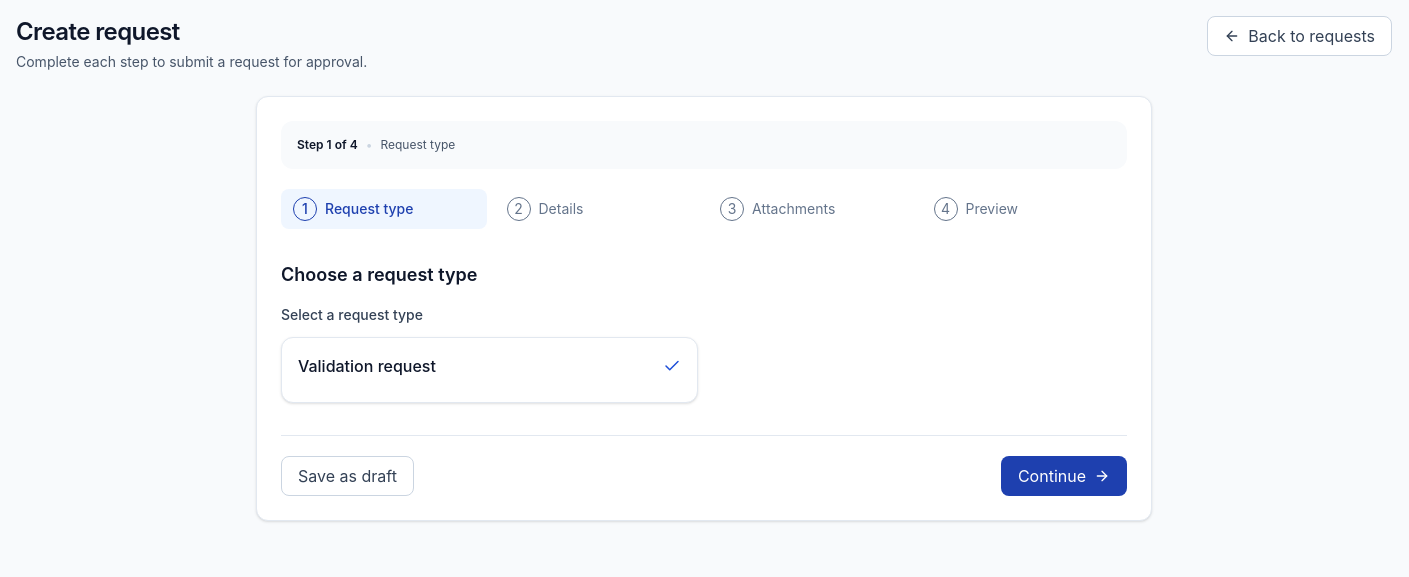
Test case: NewRequestPage validation › allows continuing when a required checkbox is checked
Click the button "Continue" at {"x": 1064, "y": 476}, box [1001, 456, 1127, 496]
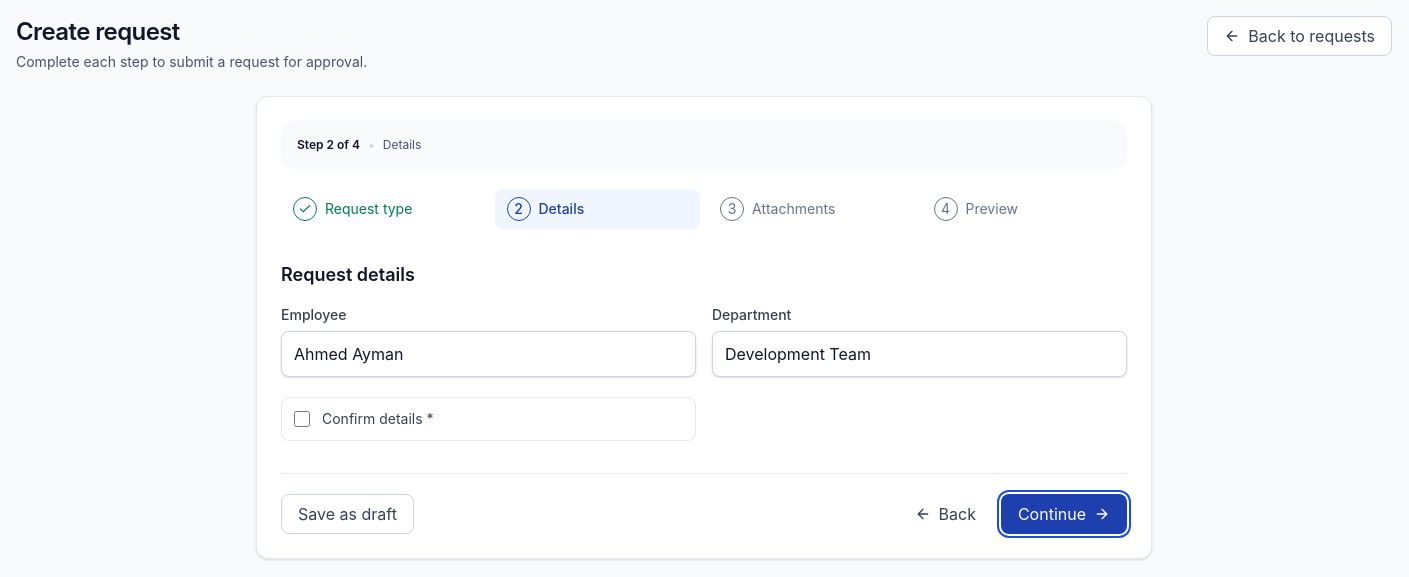
Click the checkbox labelled "Confirm details *" at {"x": 302, "y": 419}, box [294, 411, 310, 427]
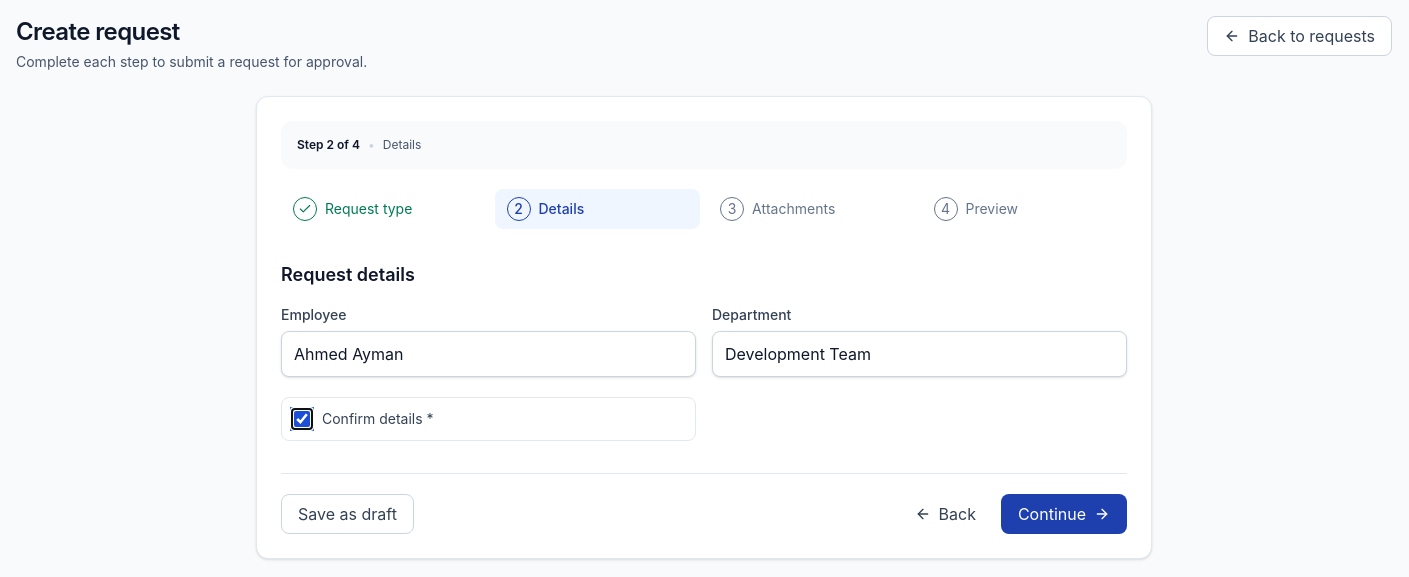
Click the button "Continue" at {"x": 1064, "y": 514}, box [1001, 494, 1127, 534]
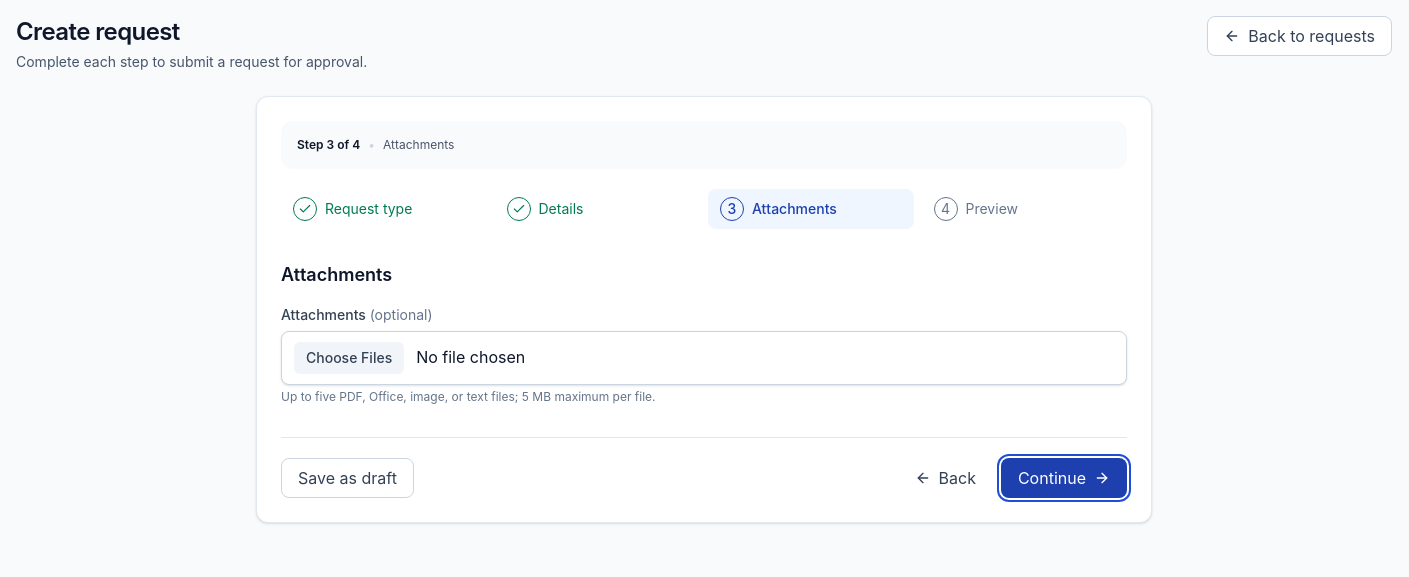
Now the heading "Attachments" is shown, box [281, 264, 392, 285]
